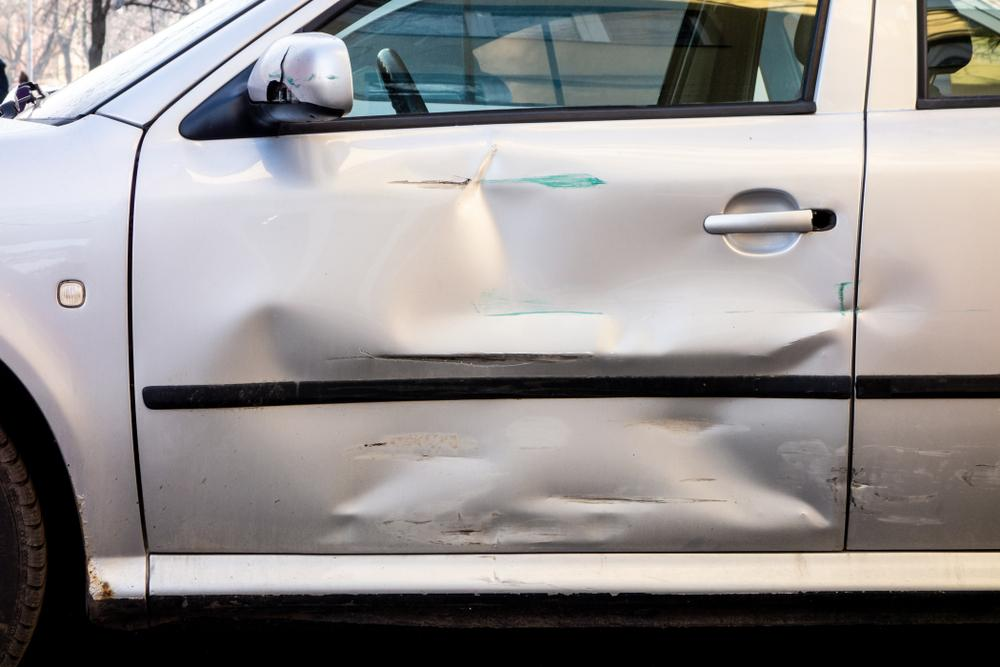dent: (214, 145, 841, 554), (858, 258, 937, 331)
scratch: (850, 439, 1000, 527)
